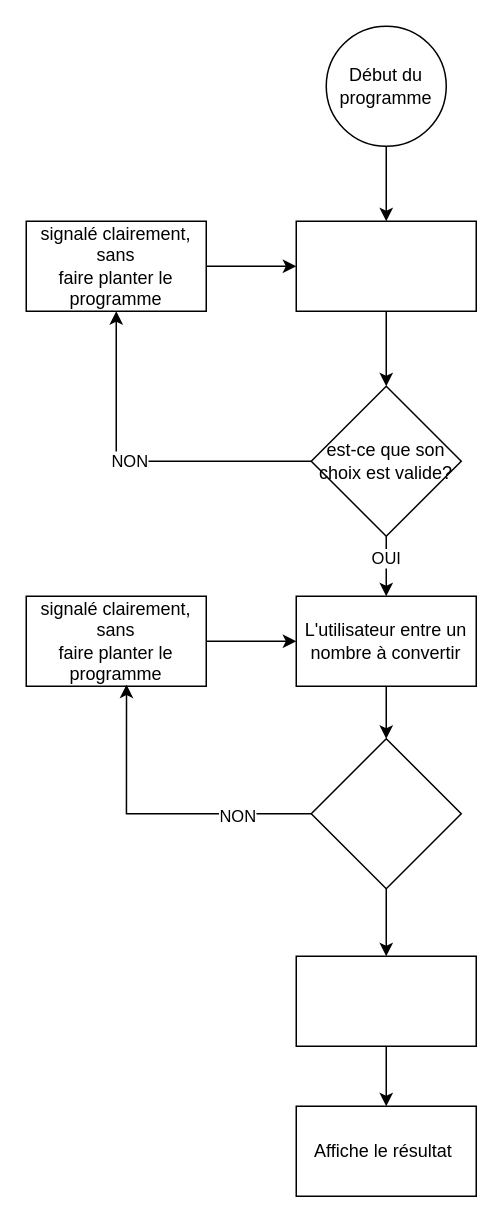
Some shapes in this 503 by 1223 pixel diagram are drawn without their labels. The centre of each missing label's shape, as x and y in pixels:
"Effectue la conversion selon l'option choisie" belongs at (x=385, y=1000).
"est-ce que sa valeur est valide?" belongs at (x=385, y=813).
"L'utilisateur choisit le type de conversion à effectuer" belongs at (x=385, y=265).
